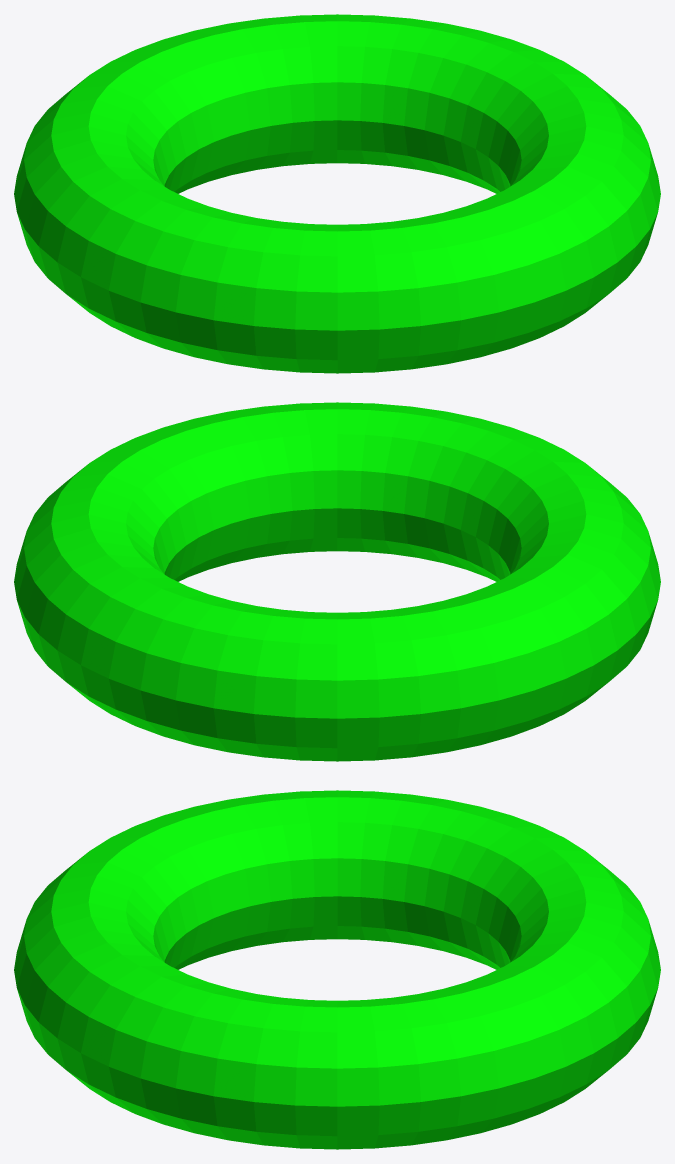
3 renders of one model, top to bottom at view 1: azimuth 30°, elevation 25°; view 2: azimuth 150°, elevation 25°; view 3: azimuth 270°, elevation 25°, orthographic.
Parts seen in each view (by area): view 1: torus; view 2: torus; view 3: torus.
Boxes of the visible parts, x1,y1,x2,y2 form: torus: [14, 14, 660, 373]; torus: [14, 402, 660, 761]; torus: [14, 790, 660, 1149].
Bounding box in the file's own units: 2.6 × 0.6 × 2.6.
